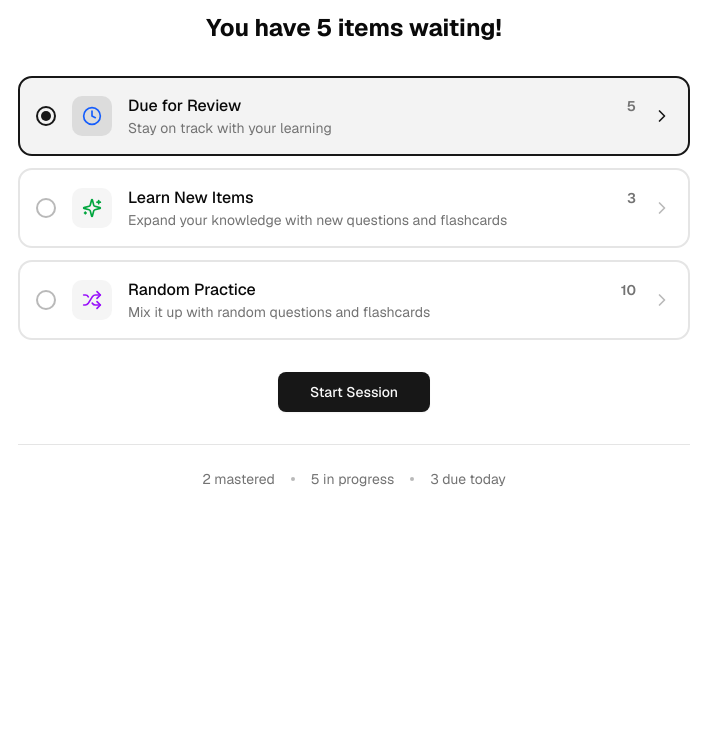
ReviewInterface › question review flow › submits answer and shows result for correct answer
Click the button "Start Session" at (354, 392), box x1=278 y1=372 x2=430 y2=412
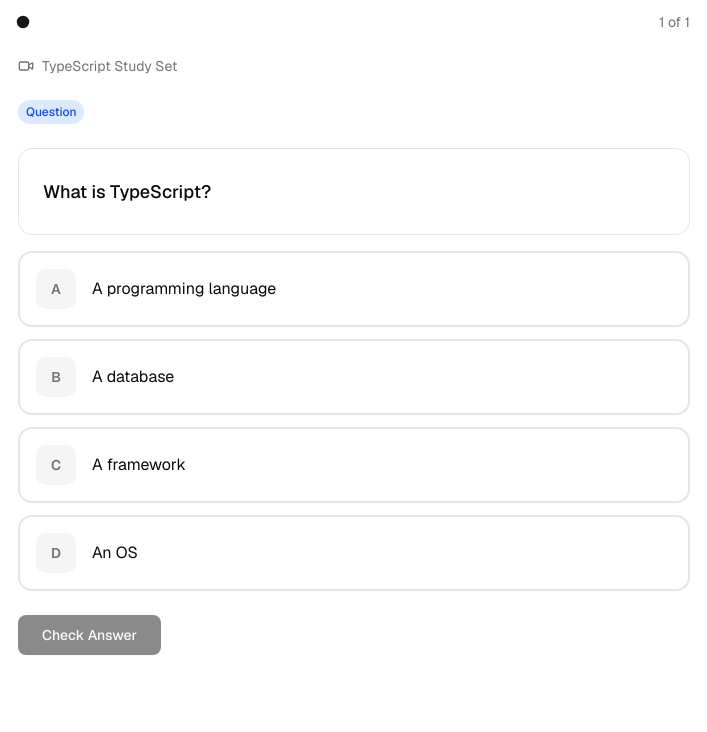
Expected: the text "What is TypeScript?" is shown, x1=43 y1=180 x2=211 y2=203
# Select correct answer
Click the text "A programming language" at (184, 289), box x1=92 y1=278 x2=276 y2=299
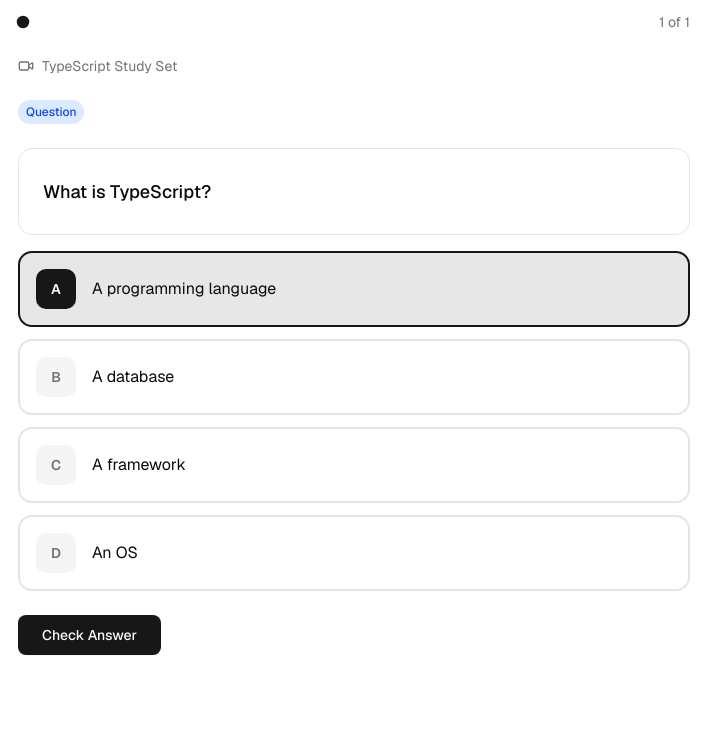
Click the button "Check Answer" at (89, 635), box x1=18 y1=615 x2=161 y2=655
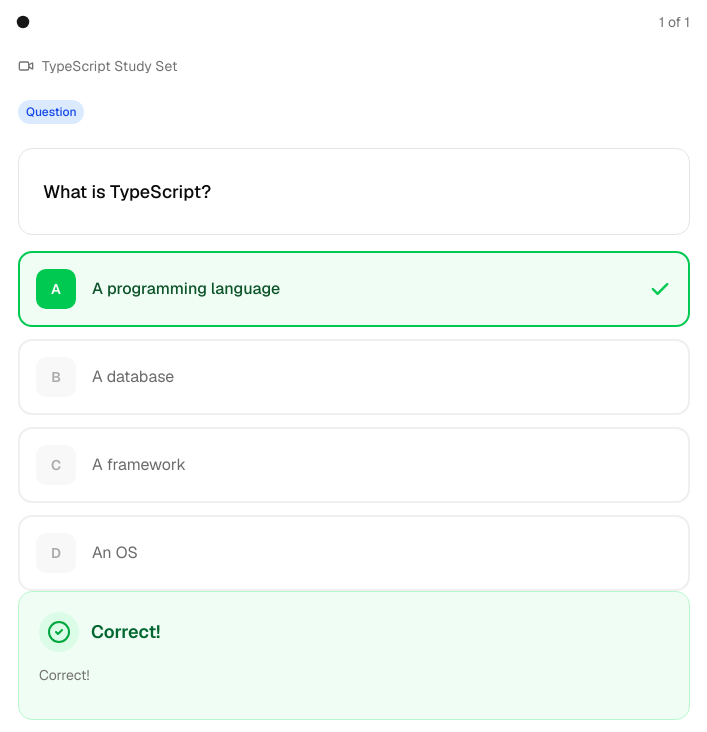
Expected: the 1st text "Correct!" is shown, x1=91 y1=618 x2=160 y2=646
